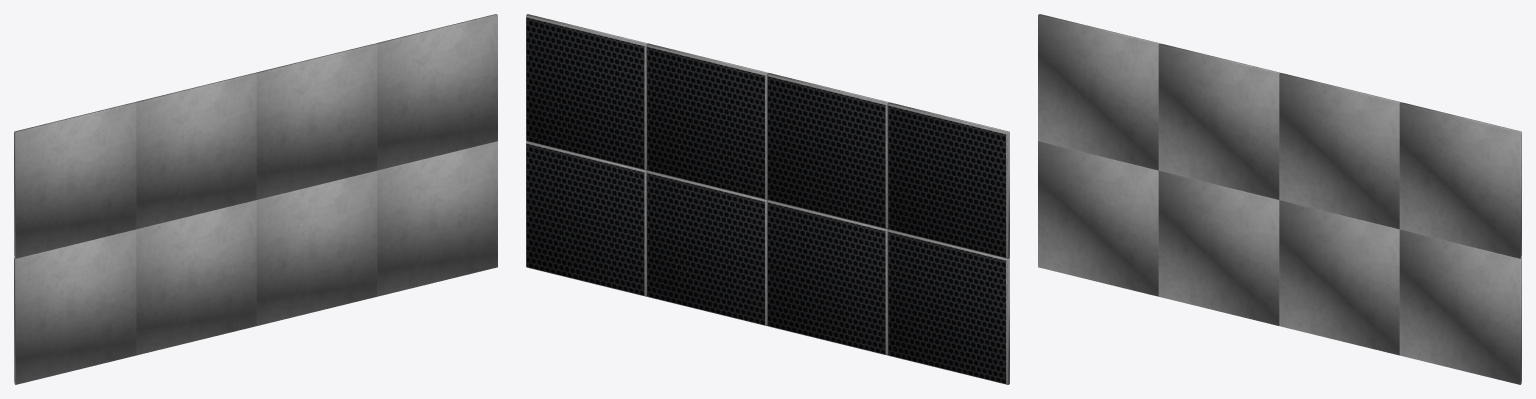
Rendered from Door.fbx.
The picture shows the model from 3 angles, left to right: view 1: azimuth 30°, elevation 25°; view 2: azimuth 150°, elevation 25°; view 3: azimuth 330°, elevation 25°; orthographic projection.
Visible parts, largest first — view 1: Door; view 2: Door; view 3: Door.
Boxes of the visible parts, <box> form: Door: <box>14,14,497,384</box>; Door: <box>526,14,1009,384</box>; Door: <box>1038,14,1521,384</box>.
Size of the model in its own units: 2400 by 1200 by 21.
1 material, 1 textured.
